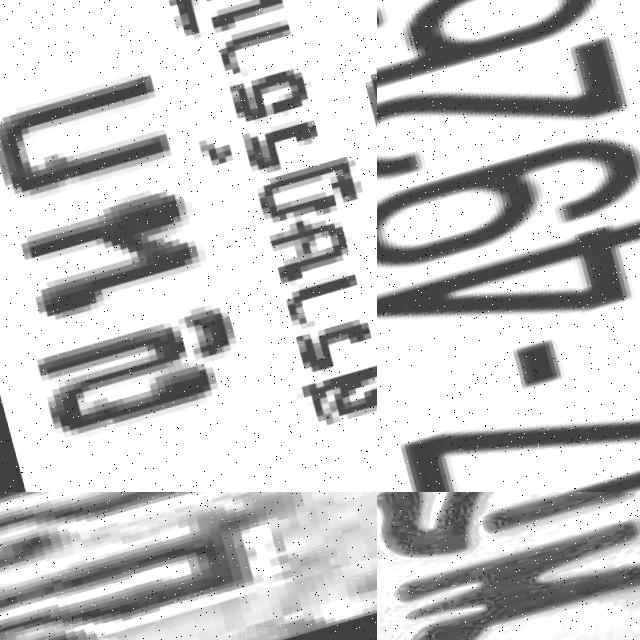license-plate: (0, 0, 377, 492), (377, 0, 640, 492), (0, 492, 377, 640), (377, 492, 640, 640)
